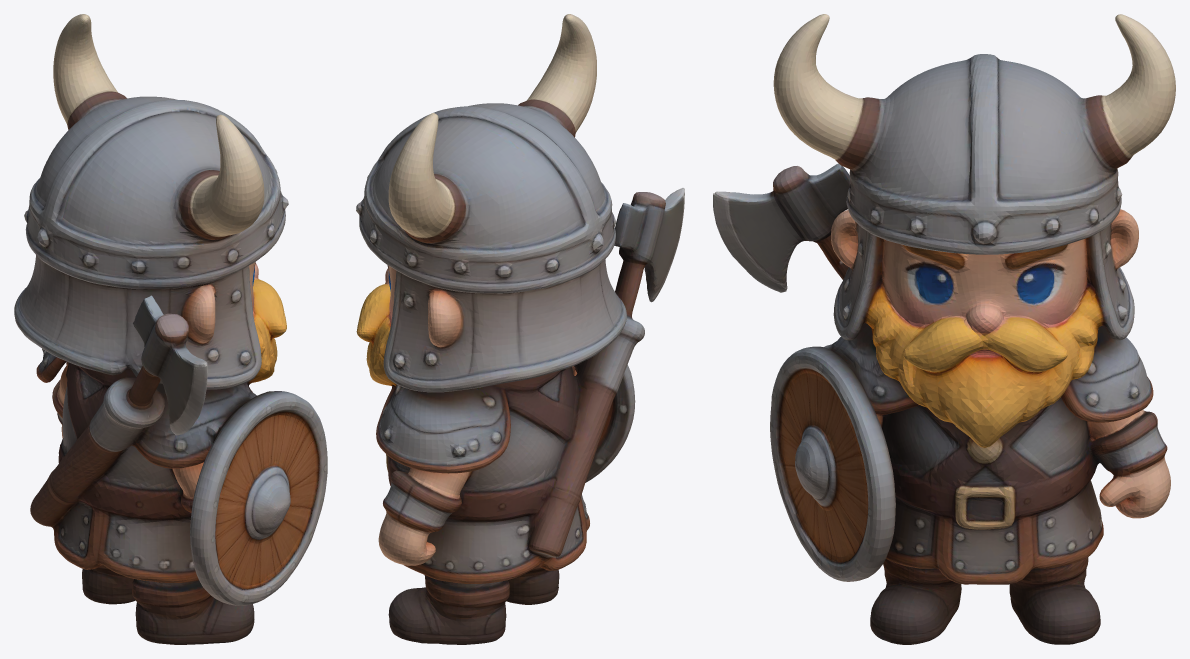
The model's file is male-02.glb.
3 renders of one model, left to right at view 1: azimuth 30°, elevation 25°; view 2: azimuth 150°, elevation 25°; view 3: azimuth 270°, elevation 25°, orthographic. The views are drawn at different scales.
Visible parts, largest first — view 1: tripo_node_2a4f0f6c-79e9-4eea-b8dc-6286d9f49d33; view 2: tripo_node_2a4f0f6c-79e9-4eea-b8dc-6286d9f49d33; view 3: tripo_node_2a4f0f6c-79e9-4eea-b8dc-6286d9f49d33.
Boxes of the visible parts, <box> form: tripo_node_2a4f0f6c-79e9-4eea-b8dc-6286d9f49d33: <box>14,14,327,644</box>; tripo_node_2a4f0f6c-79e9-4eea-b8dc-6286d9f49d33: <box>356,14,684,644</box>; tripo_node_2a4f0f6c-79e9-4eea-b8dc-6286d9f49d33: <box>713,14,1175,644</box>.
Bounding box in the file's own units: 0.461 × 0.9983 × 0.7012.
1 material, 1 textured.
